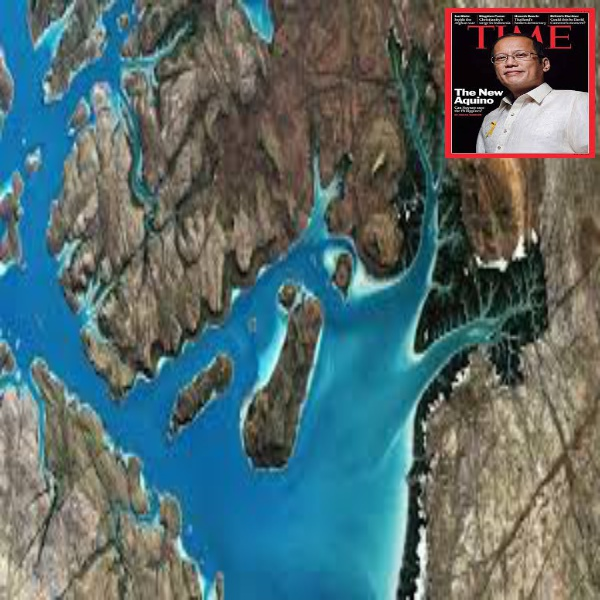time_cover: (441, 4, 595, 158)
